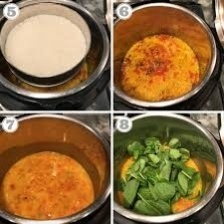dal: (117, 31, 202, 101)
